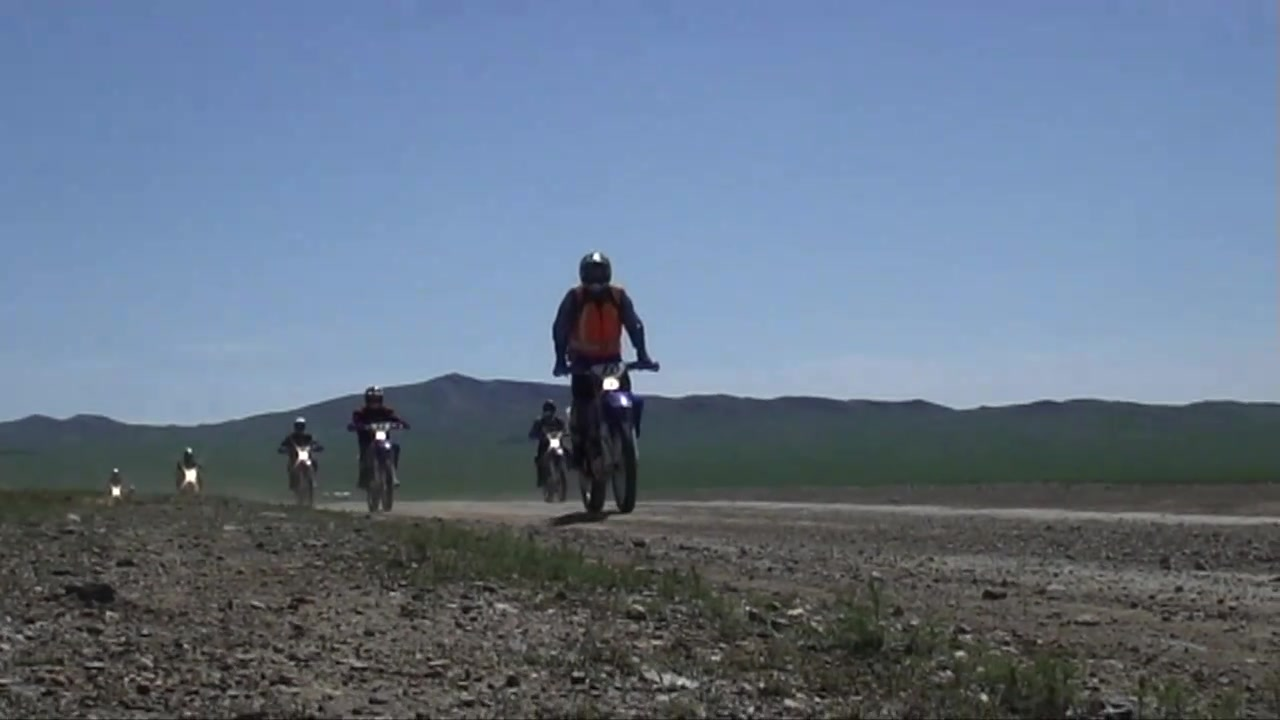motorbike: (551, 355, 661, 520), (349, 418, 416, 514), (524, 426, 572, 501), (282, 442, 322, 506), (172, 461, 215, 501), (110, 476, 134, 503)
